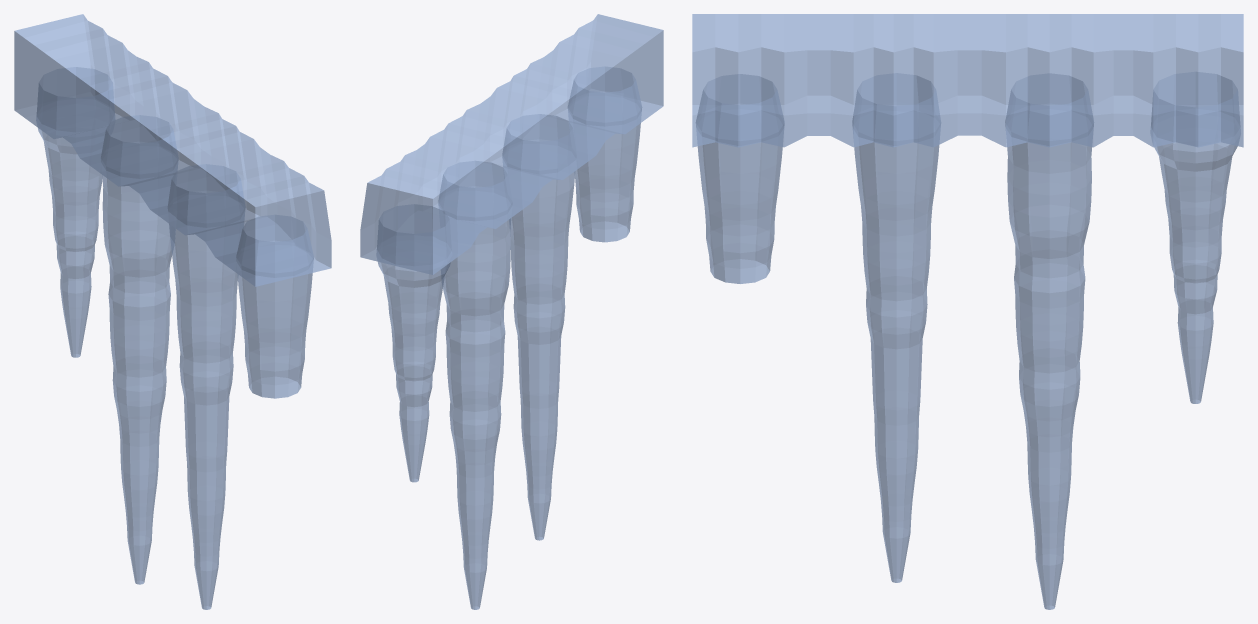
The model's file is sosylka. 2 blend.fbx.
3 renders of one model, left to right at view 1: azimuth 30°, elevation 25°; view 2: azimuth 150°, elevation 25°; view 3: azimuth 270°, elevation 25°, orthographic. The views are drawn at different scales.
Parts seen in each view (by area): view 1: Куб, Окружность.001, Окружность, Окружность.003, Окружность.002; view 2: Куб, Окружность.001, Окружность, Окружность.003, Окружность.002; view 3: Куб, Окружность.001, Окружность, Окружность.003, Окружность.002.
Part boxes in pixels (box(x1,y1,x2,y2)): Куб: box(14, 14, 331, 286); Окружность.001: box(101, 115, 178, 584); Окружность: box(168, 164, 245, 609); Окружность.003: box(36, 67, 114, 357); Окружность.002: box(236, 215, 313, 398); Куб: box(360, 14, 663, 274); Окружность.001: box(438, 161, 512, 609); Окружность: box(502, 114, 576, 540); Окружность.003: box(377, 204, 451, 482); Окружность.002: box(568, 67, 641, 242); Куб: box(692, 14, 1243, 147); Окружность.001: box(1005, 73, 1093, 609); Окружность: box(852, 73, 940, 582); Окружность.003: box(1151, 72, 1240, 403); Окружность.002: box(696, 74, 784, 283).
Size of the model in its own units: 121 by 760 by 662.
